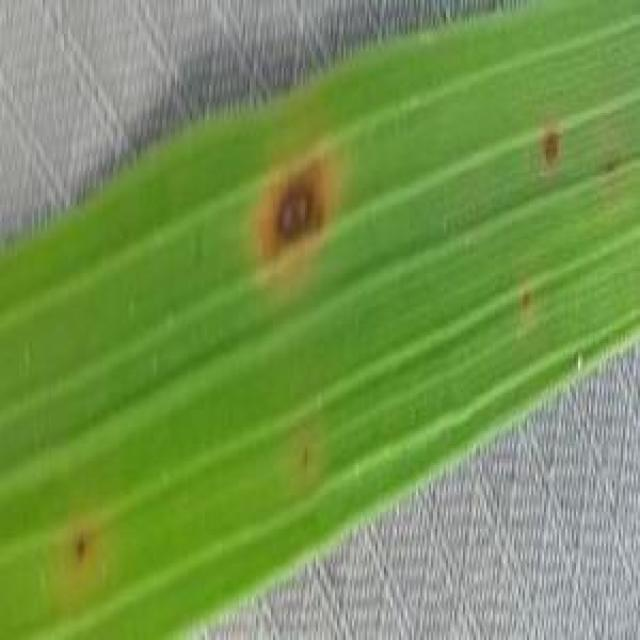Brown_Spot: (247, 146, 341, 277), (525, 111, 571, 175), (65, 525, 110, 577), (514, 283, 540, 316)
